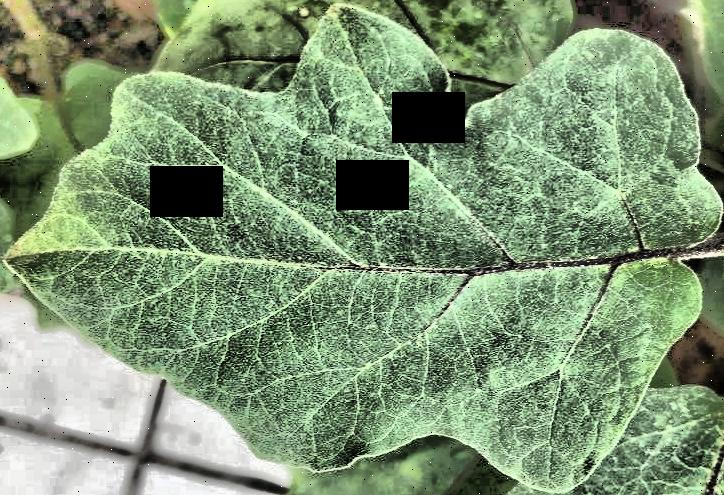HEALTHY: (0, 1, 724, 495)
